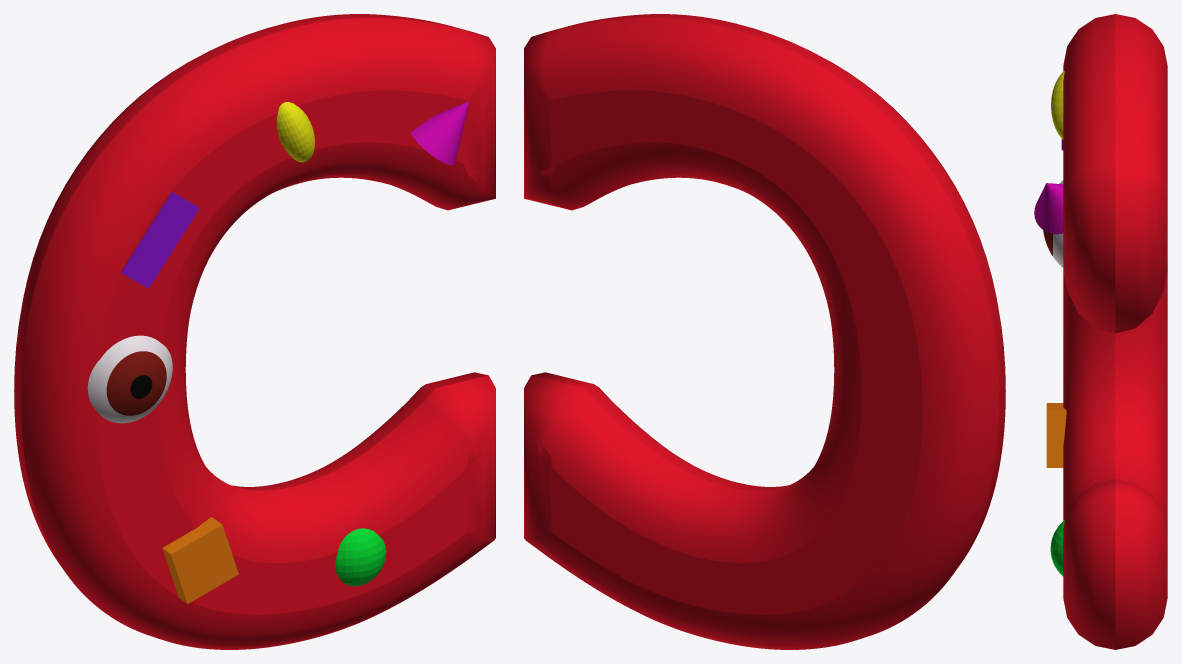
Rendered from c_red.fbx.
3 views of the same model, side by side, from view 1: azimuth 30°, elevation 25°; view 2: azimuth 150°, elevation 25°; view 3: azimuth 270°, elevation 25° (orthographic). The views are drawn at different scales.
Visible parts, largest first — view 1: Text, Sphere, Cube, Cube.001, Sphere.001, Cone, Sphere.002; view 2: Text; view 3: Text, Cone, Cube, Sphere.002, Sphere.001, Sphere.
Boxes of the visible parts, x1,y1,x2,y2 form: Text: (14, 14, 495, 649); Sphere: (87, 335, 172, 423); Cube: (162, 517, 238, 603); Cube.001: (120, 192, 199, 288); Sphere.001: (335, 528, 386, 586); Cone: (410, 101, 469, 165); Sphere.002: (276, 102, 314, 162); Text: (524, 14, 1005, 649); Text: (1063, 14, 1167, 649); Cone: (1034, 183, 1063, 234); Cube: (1046, 403, 1066, 467); Sphere.002: (1051, 71, 1064, 139); Sphere.001: (1050, 520, 1065, 576); Sphere: (1043, 180, 1063, 267).
Bounding box in the file's own units: 95.44 × 119 × 25.21.
